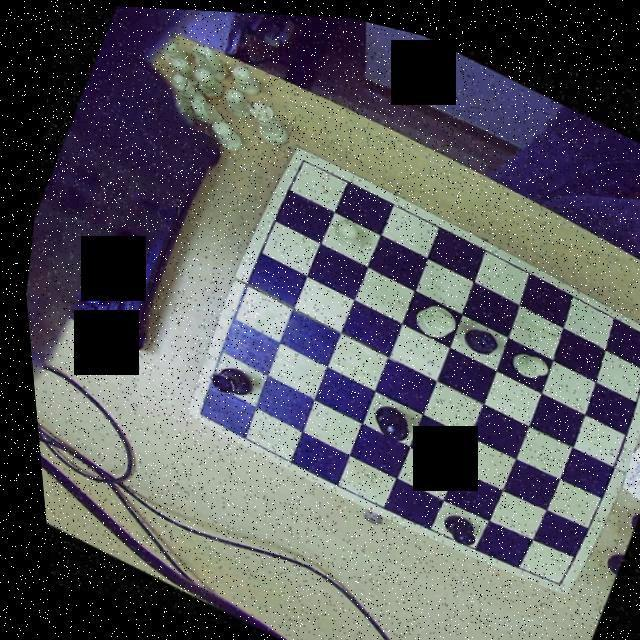chess-table-corners: (179, 394, 214, 426), (284, 145, 316, 176), (536, 562, 566, 590), (627, 319, 640, 346)
